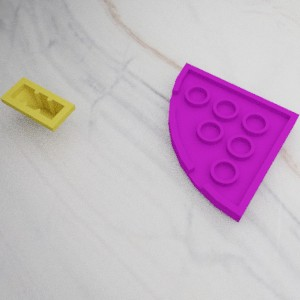lego: (167, 62, 300, 222), (0, 76, 75, 132)
